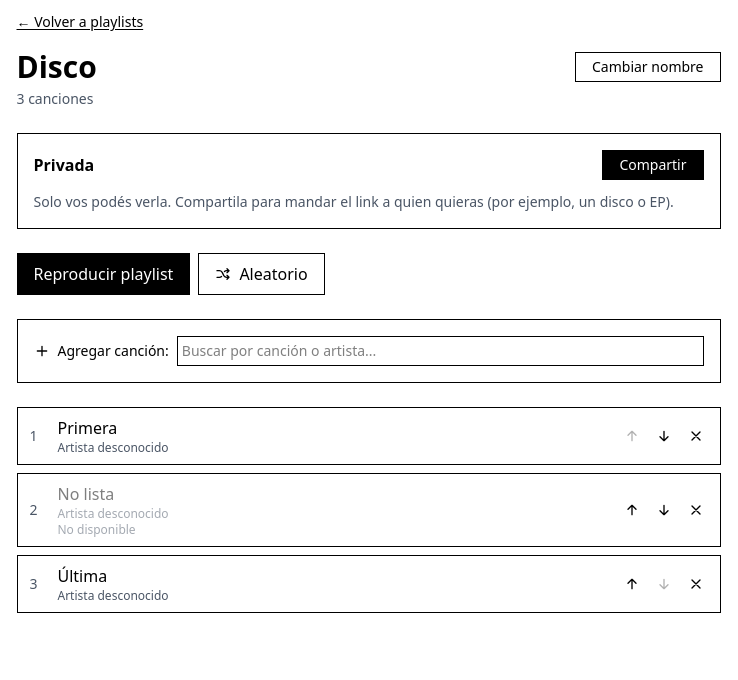
Scenario: compartir › el dueño la comparte y ve el link
Click the button "Compartir" at (653,165), box [602,150,704,180]
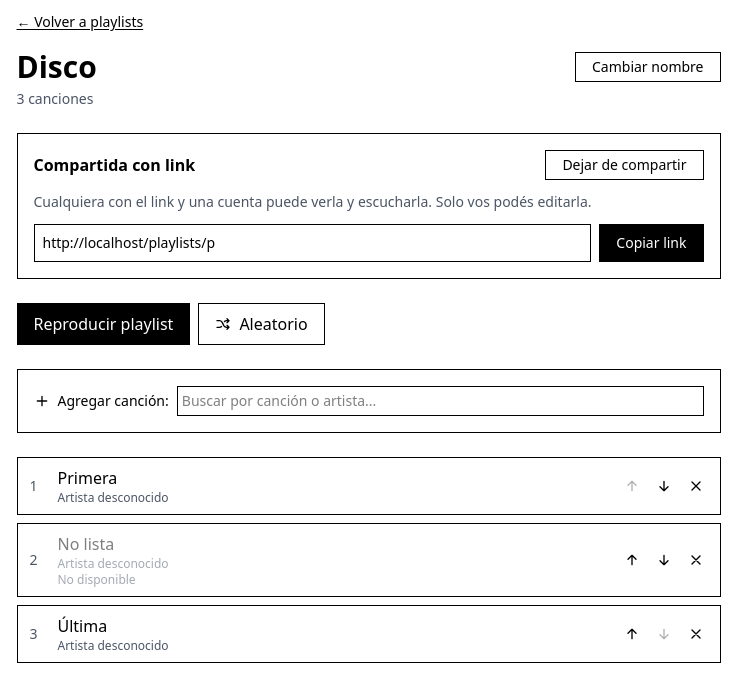
Expected: the button "Dejar de compartir" is shown, [545,150,704,180]
